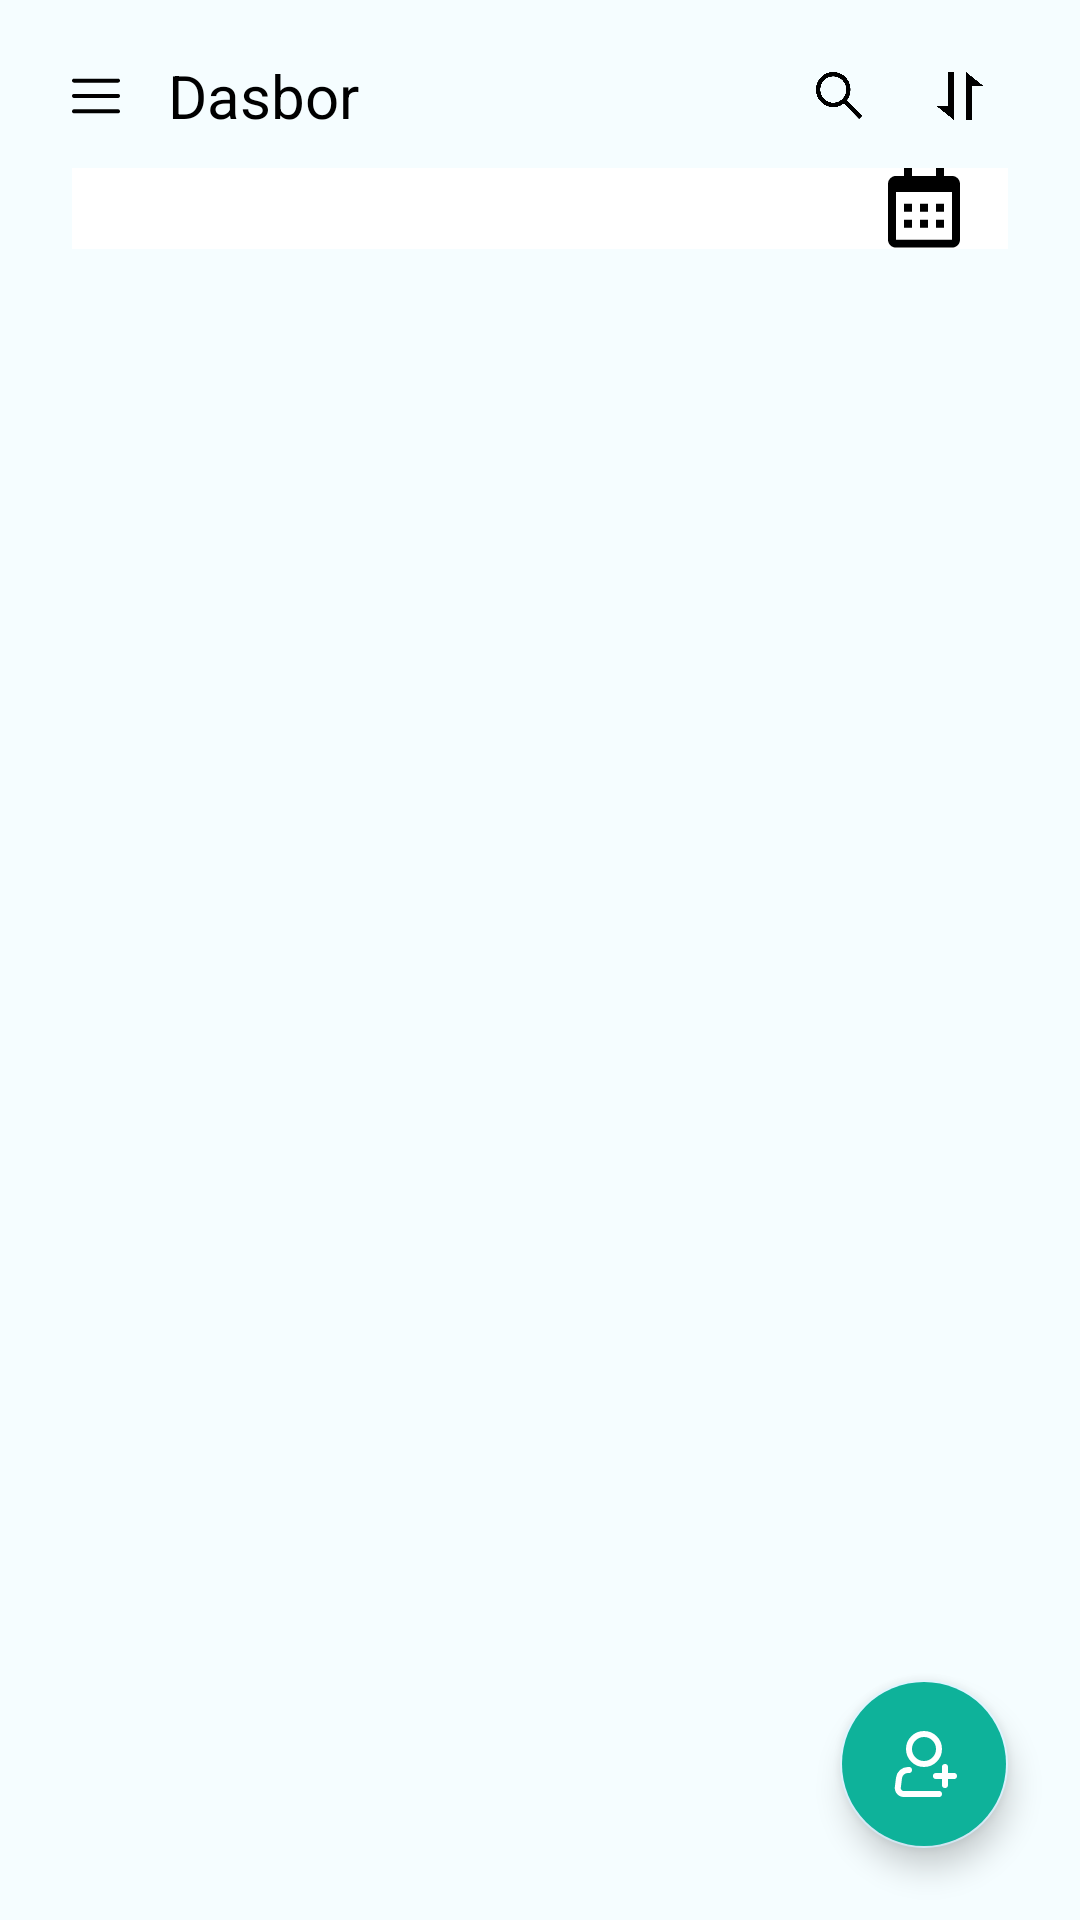

Point at icon controls on the screen. Image size 1080×1920, points as (x,y).
Cari: (839,95)
Filter: (960,96)
Kalender: (924,208)
menu: (96,96)
Tambah Pasien: (924,1765)
